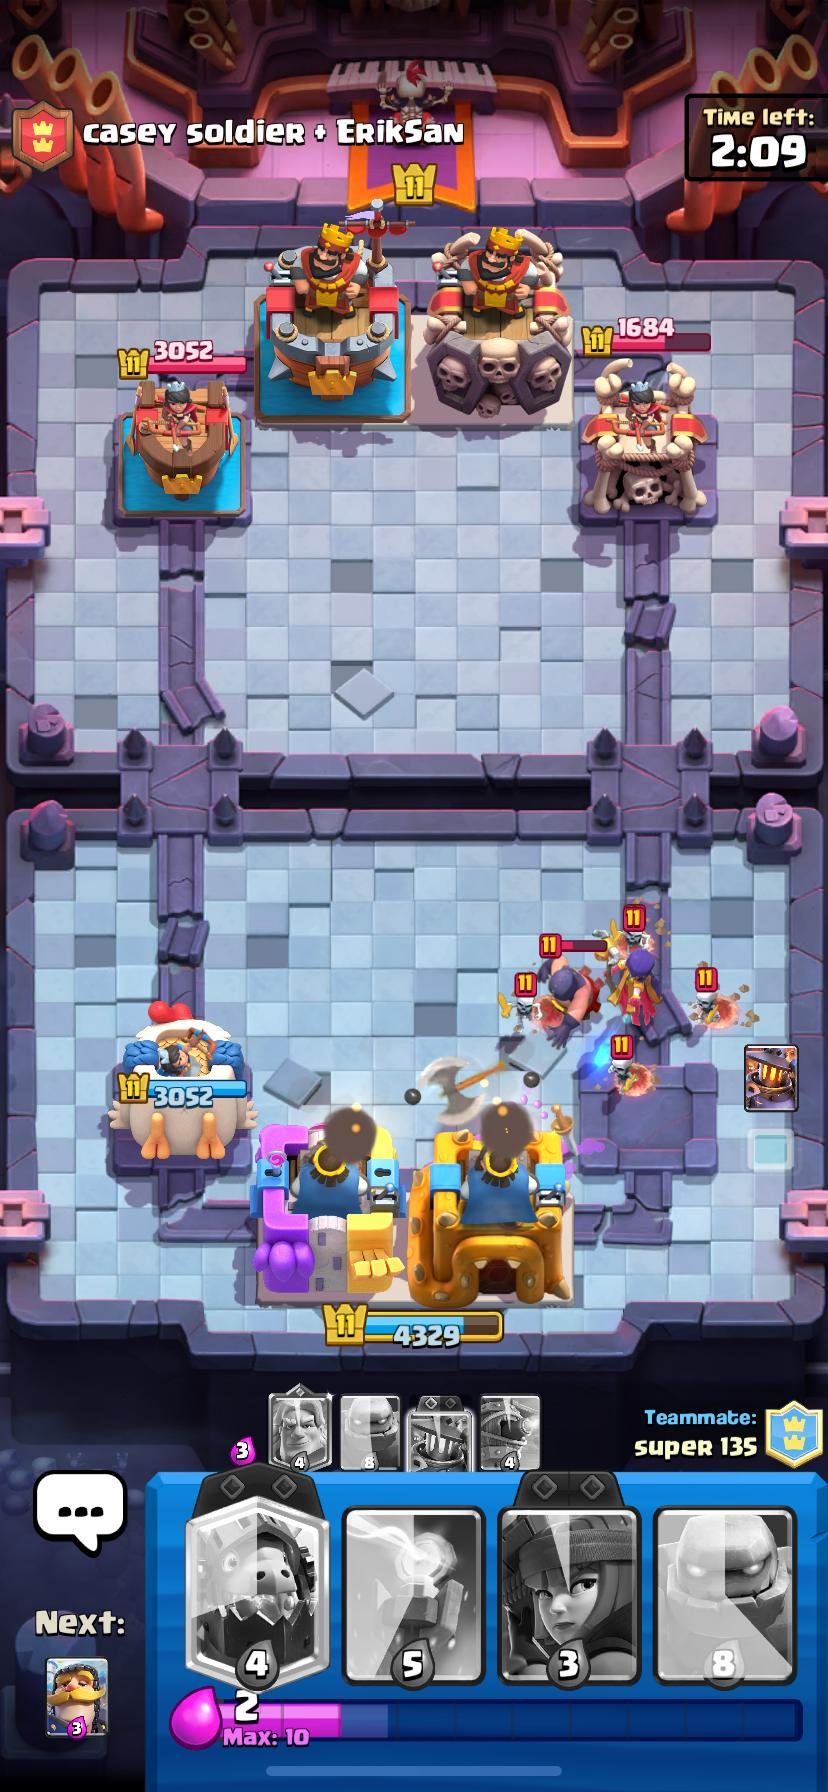EEX: (549, 957, 600, 1029)
EKingTower: (254, 211, 409, 422), (424, 227, 573, 423)
ELarry: (691, 962, 725, 1026), (512, 970, 538, 1034), (610, 1030, 634, 1095), (619, 902, 651, 945)
EWitch: (610, 937, 663, 1039)
EnemyPrincessTower: (580, 359, 706, 515), (116, 379, 245, 517)
OwnKingTower: (407, 1128, 573, 1307), (253, 1113, 403, 1303)
OwnPrincessTower: (109, 1003, 256, 1159)
TowerDown: (578, 1062, 717, 1175)
